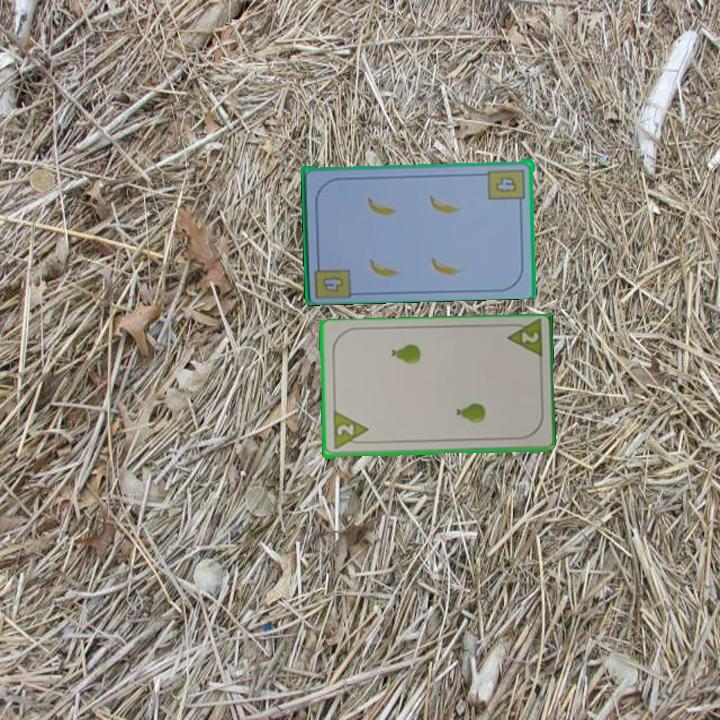2p: (502, 318, 545, 362), (329, 409, 371, 453)
4b: (312, 255, 354, 299), (485, 165, 528, 207)
